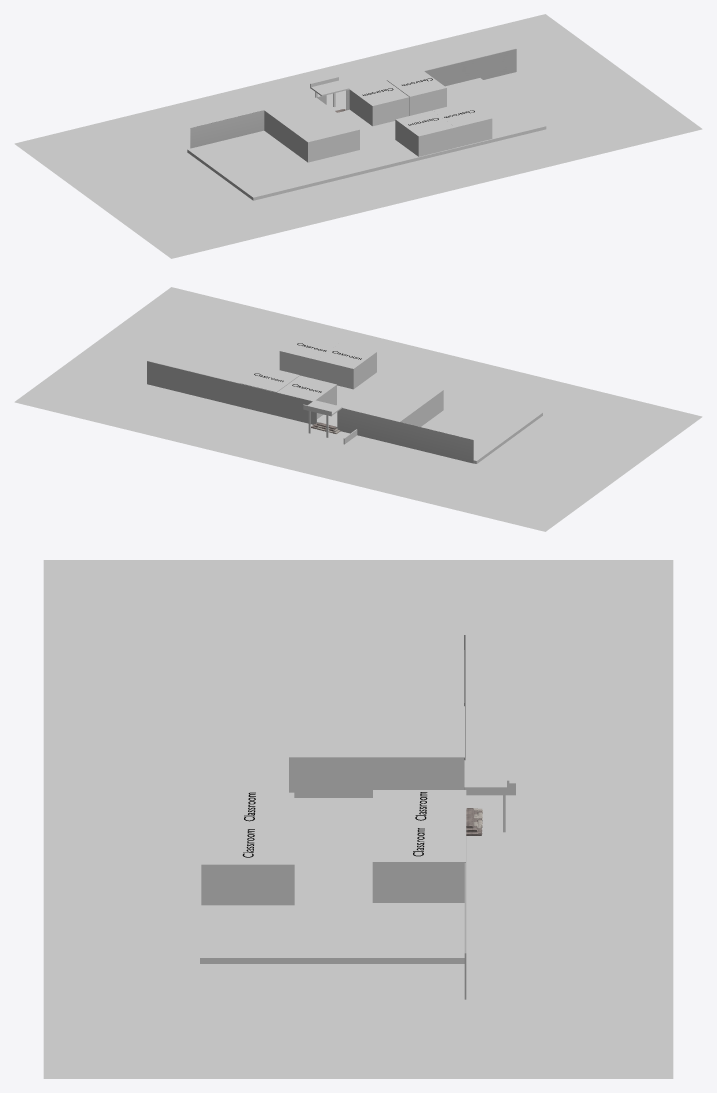
File: trial.glb
3 views of the same model, one above another, from view 1: azimuth 30°, elevation 25°; view 2: azimuth 150°, elevation 25°; view 3: azimuth 270°, elevation 25° (orthographic). The views are drawn at different scales.
Visible parts, largest first — view 1: Plane, Cube.002, Cube.008, Cube.012, Cube.009, Cube, Cube.011, Cube.001, Cube.010; view 2: Plane, Cube.002, Cube, Cube.001, Cube.008, Cube.012, Cube.011, Cube.009, Cube.010; view 3: Plane, Cube.002, Cube.008, Cube.011, Cube.010, Cube.012, Cube.009, Cube.005.
Boxes of the visible parts, left/top/right/bottom form: Plane: left=14, top=14, right=702, bottom=258; Cube.002: left=187, top=78, right=546, bottom=200; Cube.008: left=264, top=97, right=359, bottom=162; Cube.012: left=395, top=110, right=455, bottom=156; Cube.009: left=349, top=80, right=409, bottom=126; Cube: left=346, top=48, right=516, bottom=110; Cube.011: left=432, top=101, right=492, bottom=147; Cube.001: left=190, top=95, right=326, bottom=148; Cube.010: left=387, top=71, right=446, bottom=115; Plane: left=14, top=287, right=702, bottom=531; Cube.002: left=204, top=341, right=542, bottom=463; Cube: left=147, top=361, right=316, bottom=424; Cube.001: left=337, top=408, right=473, bottom=463; Cube.008: left=348, top=377, right=443, bottom=426; Cube.012: left=316, top=343, right=376, bottom=389; Cube.011: left=279, top=334, right=339, bottom=379; Cube.009: left=277, top=375, right=336, bottom=418; Cube.010: left=239, top=366, right=299, bottom=392; Plane: left=43, top=560, right=673, bottom=1078; Cube.002: left=200, top=672, right=464, bottom=963; Cube.008: left=289, top=706, right=464, bottom=797; Cube.011: left=201, top=828, right=294, bottom=905; Cube.010: left=372, top=826, right=465, bottom=902; Cube.012: left=201, top=792, right=294, bottom=828; Cube.009: left=373, top=790, right=466, bottom=826; Cube.005: left=464, top=760, right=506, bottom=789.
Size of the model in its own units: 77.72 by 6.2 by 39.88.
Materials: 4 (1 with a texture image).
